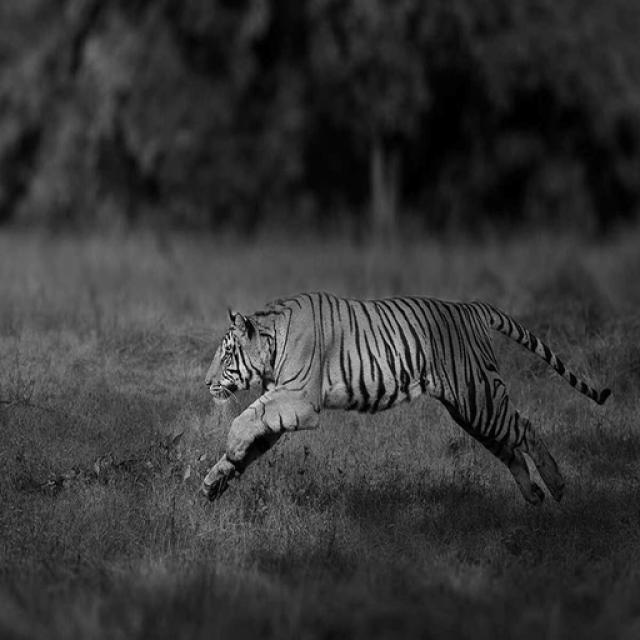Tiger: (199, 289, 611, 506)
